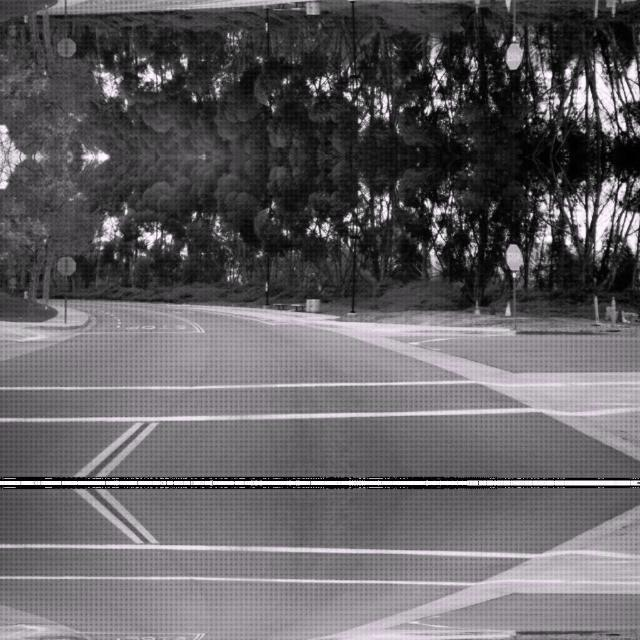stop: (506, 242, 522, 270), (506, 42, 522, 70)
